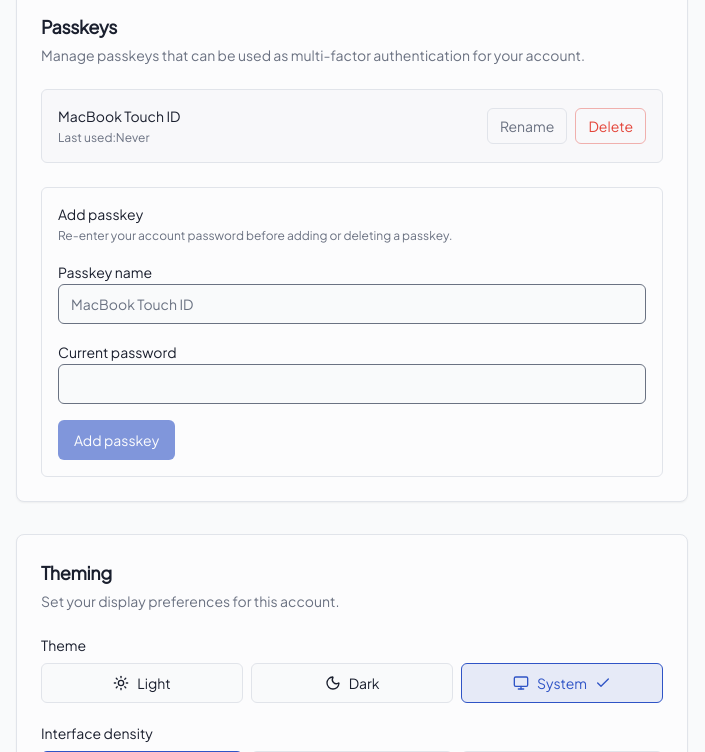
Test: ProfilePage passkey management › sends currentPassword when deleting a passkey
(page scrolled)
Expected: the text "MacBook Touch ID" is shown, [58,106,180,126]
In the password field labelled "Current password": [352, 384] box [58,364,646,404], type "current-password"
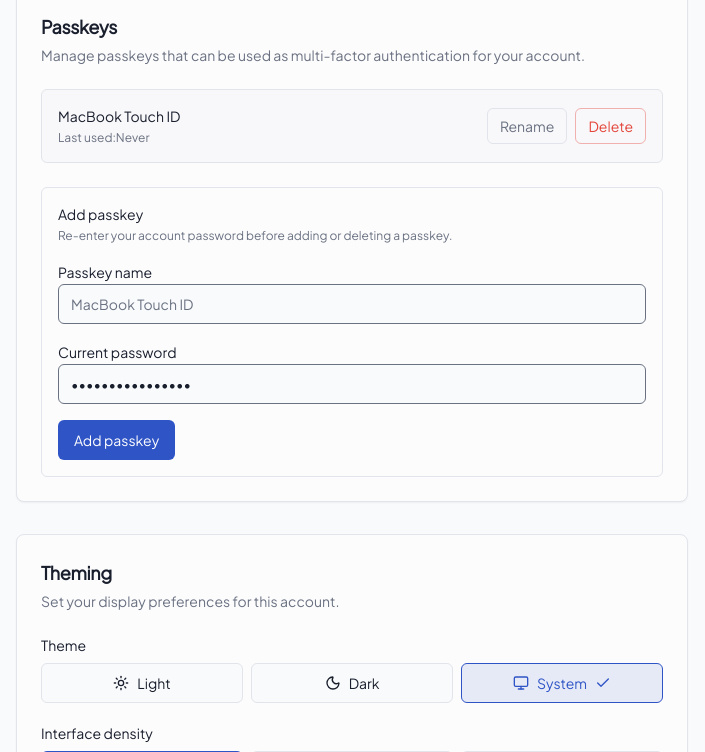
Click the button "Delete": [611, 126] box [575,108,646,144]
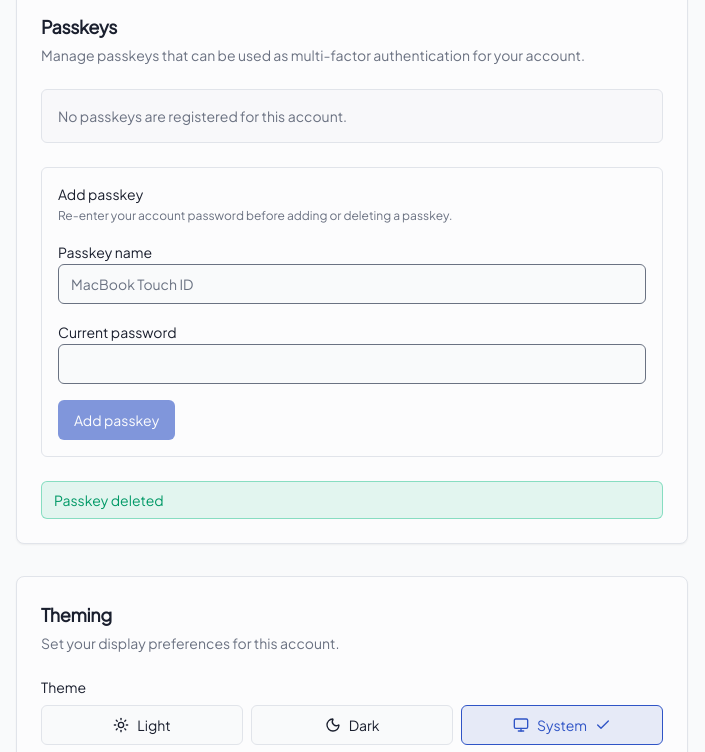
Expected: the text "Passkey deleted" is shown, [41,481,663,519]
